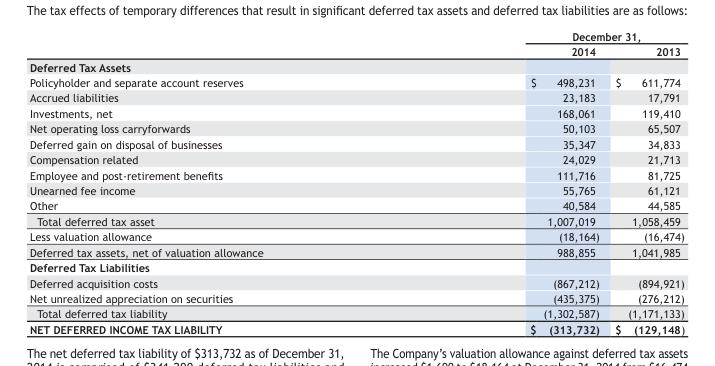table: (29, 29, 684, 335)
table column: (29, 29, 395, 335), (395, 29, 606, 335), (606, 29, 684, 335)
table column header: (29, 29, 684, 58)
table projected row header: (29, 58, 684, 74), (29, 259, 684, 274)
table row: (29, 58, 684, 74), (29, 89, 684, 105), (29, 120, 684, 136), (29, 166, 684, 182), (29, 197, 684, 213), (29, 228, 684, 244), (29, 274, 684, 290), (29, 305, 684, 321), (29, 43, 684, 58), (29, 74, 684, 89), (29, 105, 684, 120), (29, 136, 684, 151), (29, 151, 684, 166), (29, 182, 684, 197), (29, 213, 684, 228), (29, 244, 684, 259), (29, 259, 684, 274), (29, 290, 684, 305), (29, 29, 684, 43), (29, 321, 684, 335)
table spanning cell: (395, 29, 684, 43)
